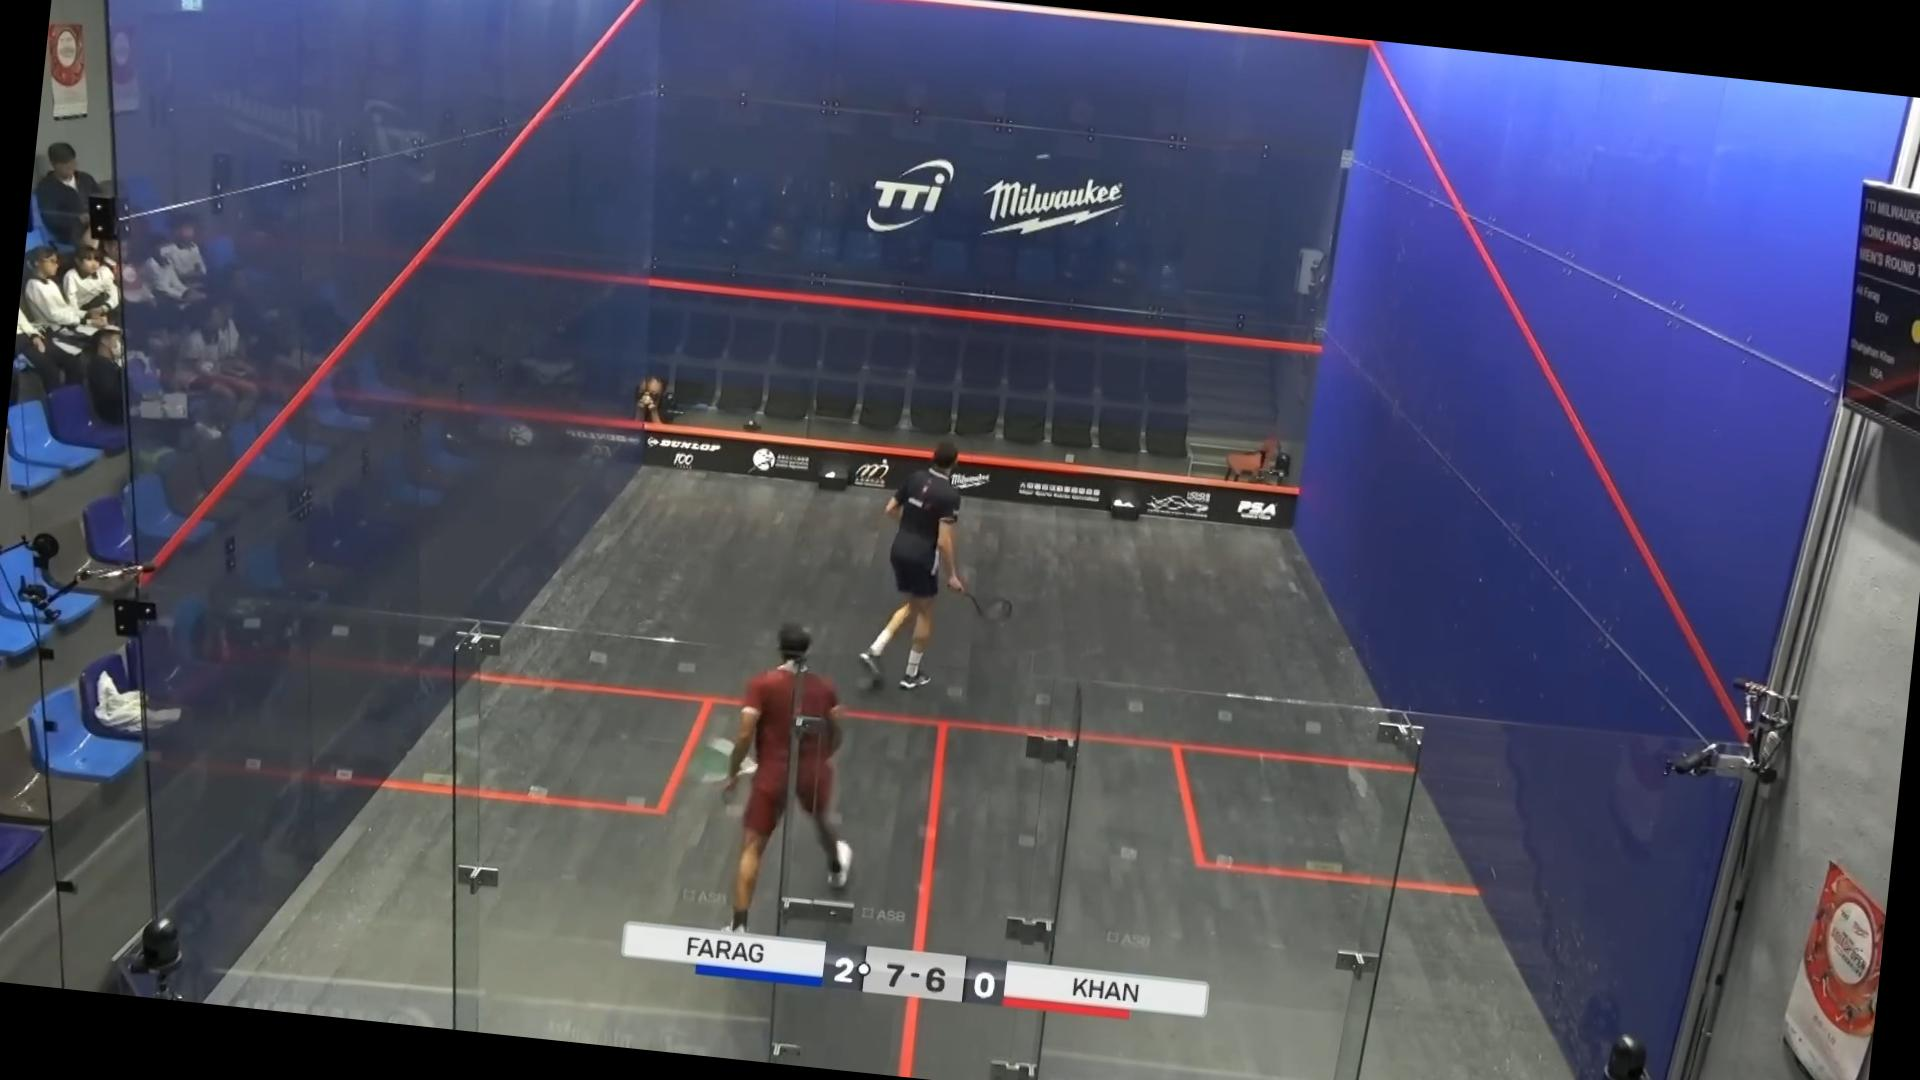Racket: (684, 729, 761, 789), (949, 583, 1015, 630)
